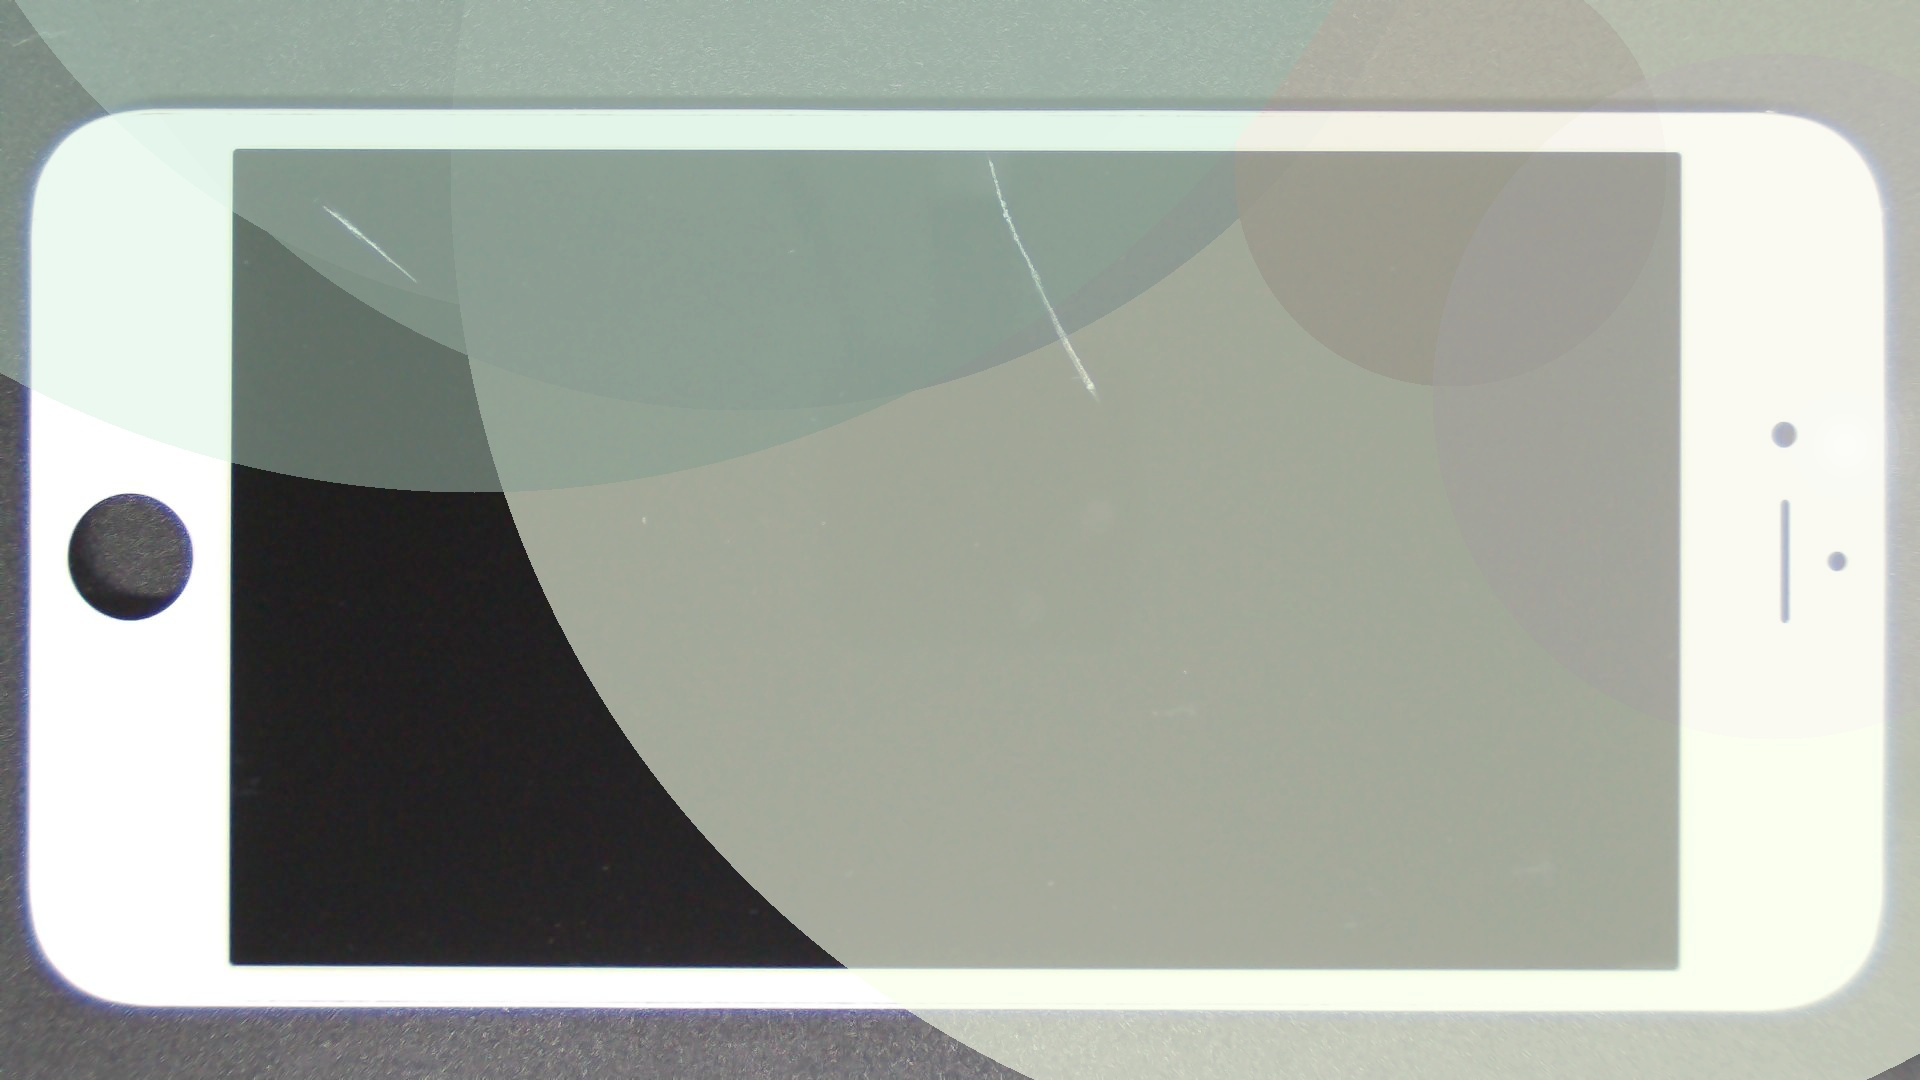oil: (495, 78, 1482, 236), (161, 102, 483, 306)
